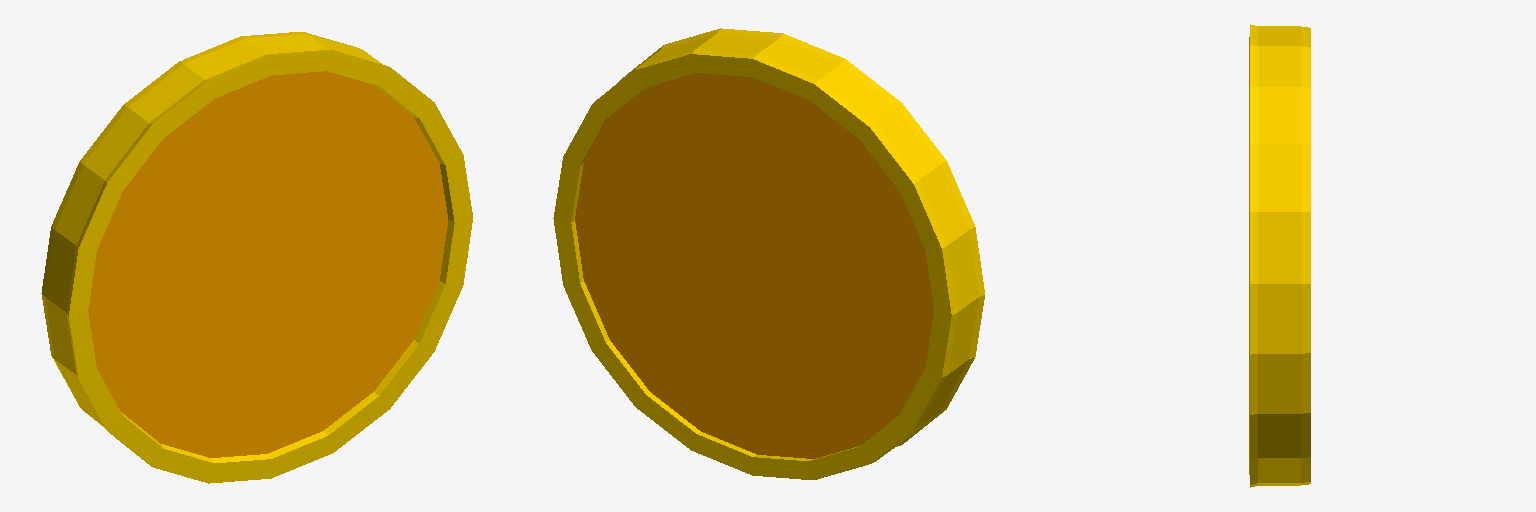
The model's file is stCoin.obj.
3 renders of one model, left to right at view 1: azimuth 30°, elevation 25°; view 2: azimuth 150°, elevation 25°; view 3: azimuth 270°, elevation 25°, orthographic.
Visible parts, largest first — view 1: stCoin; view 2: stCoin; view 3: stCoin.
Part boxes in pixels (left/top/right/bottom): stCoin: left=41, top=32, right=472, bottom=483; stCoin: left=553, top=28, right=984, bottom=479; stCoin: left=1249, top=24, right=1310, bottom=487.
Bounding box in the file's own units: 0.0646 × 0.0646 × 0.0085.